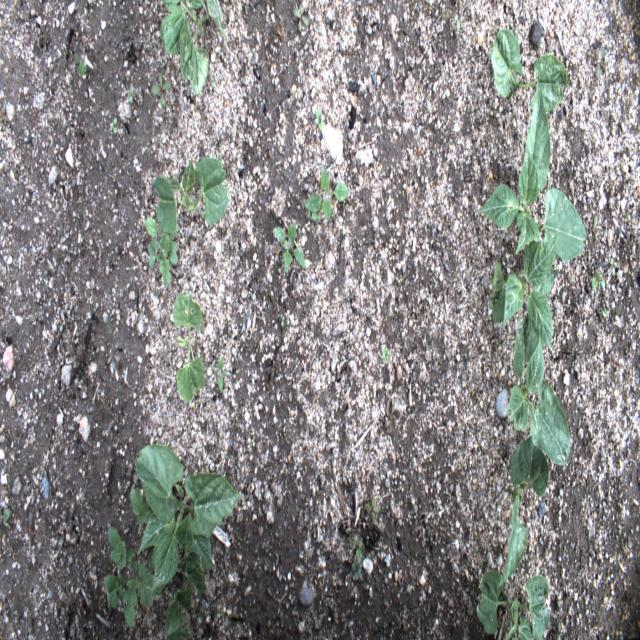crop: (100, 444, 242, 638), (471, 90, 586, 262), (503, 313, 574, 478), (489, 240, 560, 357), (502, 434, 555, 585), (156, 3, 226, 102), (488, 29, 570, 113), (150, 152, 230, 236), (473, 566, 552, 636), (171, 287, 206, 402), (144, 212, 182, 292)
weed: (302, 158, 353, 224), (272, 222, 308, 279), (208, 352, 238, 402), (149, 67, 176, 117), (348, 531, 368, 589), (287, 3, 317, 41), (382, 388, 405, 433), (66, 44, 91, 79), (590, 43, 609, 86), (440, 7, 468, 35), (22, 26, 53, 51), (373, 338, 393, 374), (364, 494, 384, 526), (589, 265, 606, 299), (310, 104, 330, 132), (208, 62, 226, 93), (125, 75, 138, 113), (109, 108, 126, 137), (606, 248, 619, 285), (589, 200, 603, 234), (0, 93, 13, 129), (599, 302, 613, 324), (27, 514, 40, 535), (0, 507, 11, 529), (278, 310, 286, 333)
